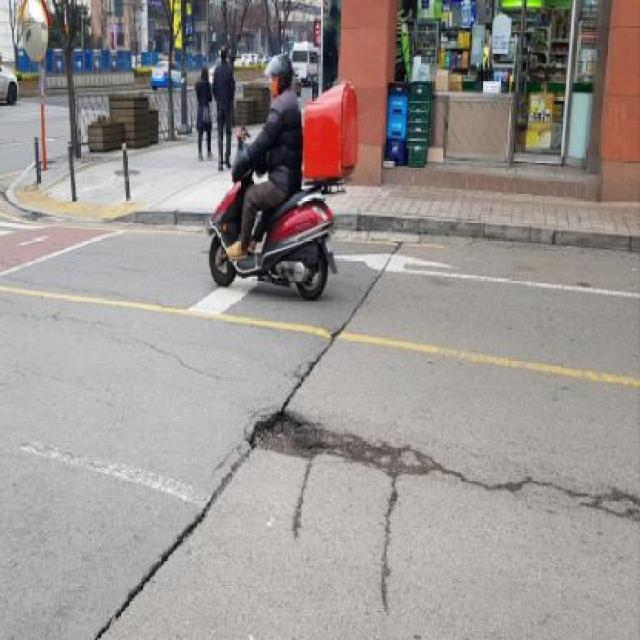Buraco: (245, 408, 348, 462)
